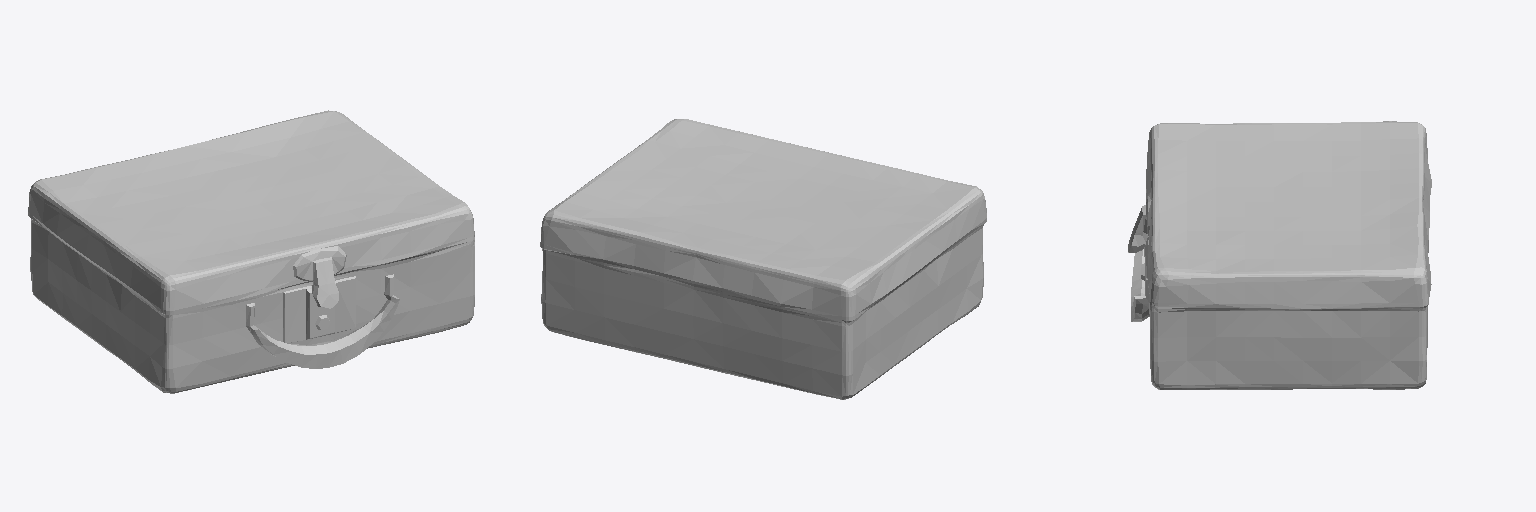
Rendered from Vintage_Suitcase_LP.obj.
The picture shows the model from 3 angles: view 1: azimuth 30°, elevation 25°; view 2: azimuth 150°, elevation 25°; view 3: azimuth 270°, elevation 25°; orthographic projection.
Parts seen in each view (by area): view 1: Suitcase_LP; view 2: Suitcase_LP; view 3: Suitcase_LP.
Part boxes in pixels (x1,y1,x2,y2): Suitcase_LP: (28, 110, 474, 393); Suitcase_LP: (540, 119, 986, 399); Suitcase_LP: (1128, 121, 1431, 389).
Size of the model in its own units: 51.22 by 18.92 by 42.44.